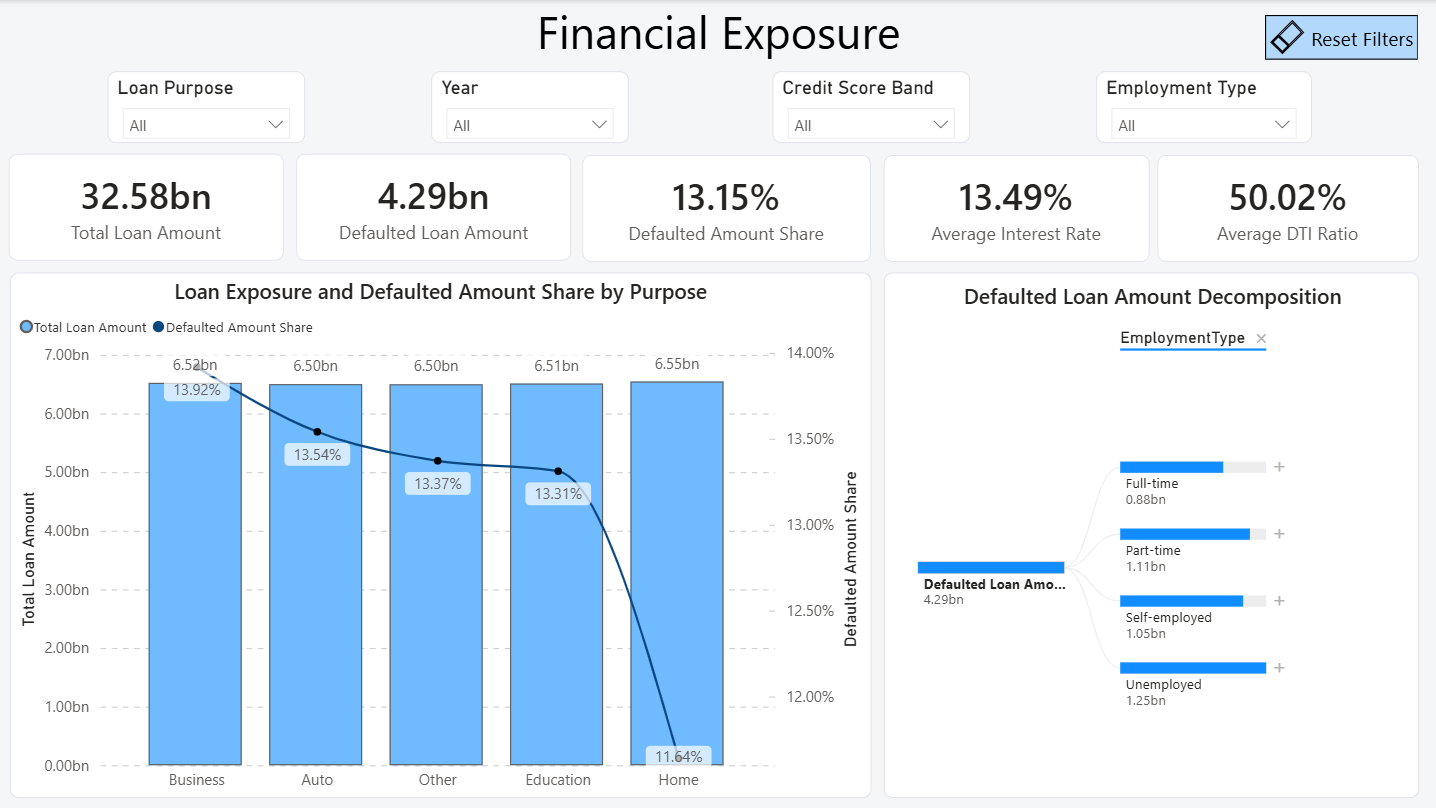

This screenshot's page, from the dashboard's own definition file:
{"tool":"powerbi","page":{"name":"Financial Exposure","canvas":[1280,720],"ordinal":2},"visuals":[{"type":"shape","title":"Financial Exposure","box":[0,0,1280,53.1],"z":0},{"type":"cardVisual","fields":{"Data":["_Measures.Total Loan Amount"]},"box":[8,137,245,95],"z":1000},{"type":"cardVisual","fields":{"Data":["_Measures.Defaulted Loan Amount"]},"box":[263.6,137,245,95],"z":2000},{"type":"cardVisual","title":"Defaulted Amount Share","fields":{"Data":["_Measures.Defaulted Amount %"]},"box":[518.8,137.5,257,95],"z":3000},{"type":"cardVisual","fields":{"Data":["_Measures.Average Interest Rate %"]},"box":[786.6,137.5,236.5,95],"z":4000},{"type":"cardVisual","fields":{"Data":["_Measures.Average DTI Ratio %"]},"box":[1030.3,137.5,232.8,95],"z":5000},{"type":"lineClusteredColumnComboChart","title":"Loan Exposure and Defaulted Amount Share by Purpose","fields":{"Category":["Loan_default.LoanPurpose"],"Y":["_Measures.Total Loan Amount"],"Y2":["_Measures.Defaulted Amount %"]},"box":[8.4,243,767.3,468],"z":6000},{"type":"slicer","title":"Year","fields":{"Values":["Date Table.Year"]},"box":[384,63,176,64],"z":7000},{"type":"slicer","title":"Employment Type","fields":{"Values":["Loan_default.EmploymentType"]},"box":[976,63,192,64],"z":8000},{"type":"slicer","title":"Loan Purpose","fields":{"Values":["Loan_default.LoanPurpose"]},"box":[96,63,176,64],"z":9000},{"type":"slicer","title":"Credit Score Band","fields":{"Values":["Loan_default.Credit Score Bins"]},"box":[688,63,176,64],"z":10000},{"type":"decompositionTreeVisual","title":"Defaulted Loan Amount Decomposition","fields":{"Analyze":["_Measures.Defaulted Loan Amount"],"ExplainBy":["Loan_default.EmploymentType","Loan_default.Income Bracket","Loan_default.Interest Rate Band","Loan_default.LoanPurpose","Loan_default.Age Groups","Loan_default.Education","Loan_default.Credit Score Bins"]},"box":[786.6,243,476.5,468],"z":11000},{"type":"actionButton","box":[1126.8,13.3,136.3,39.8],"z":12000}]}

Visuals, with their boxes in screenshot pixels (x1, y1, x2, y2), scaled from the page's 1280x720 canvas onto the 1436x808 screenshot:
"Financial Exposure" shape: rect(0, 0, 1435, 60)
cardVisual - _Measures.Total Loan Amount: rect(9, 154, 284, 260)
cardVisual - _Measures.Defaulted Loan Amount: rect(296, 154, 571, 260)
"Defaulted Amount Share" cardVisual: rect(582, 154, 870, 261)
cardVisual - _Measures.Average Interest Rate %: rect(882, 154, 1148, 261)
cardVisual - _Measures.Average DTI Ratio %: rect(1156, 154, 1417, 261)
"Loan Exposure and Defaulted Amount Share by Purpose" lineClusteredColumnComboChart: rect(9, 273, 870, 798)
"Year" slicer: rect(431, 71, 628, 143)
"Employment Type" slicer: rect(1095, 71, 1310, 143)
"Loan Purpose" slicer: rect(108, 71, 305, 143)
"Credit Score Band" slicer: rect(772, 71, 969, 143)
"Defaulted Loan Amount Decomposition" decompositionTreeVisual: rect(882, 273, 1417, 798)
actionButton: rect(1264, 15, 1417, 60)
